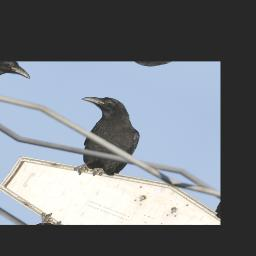Crow: (38, 88, 163, 187)
